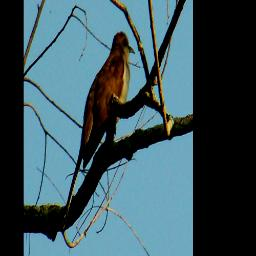Cuckoo: (81, 31, 135, 173)
